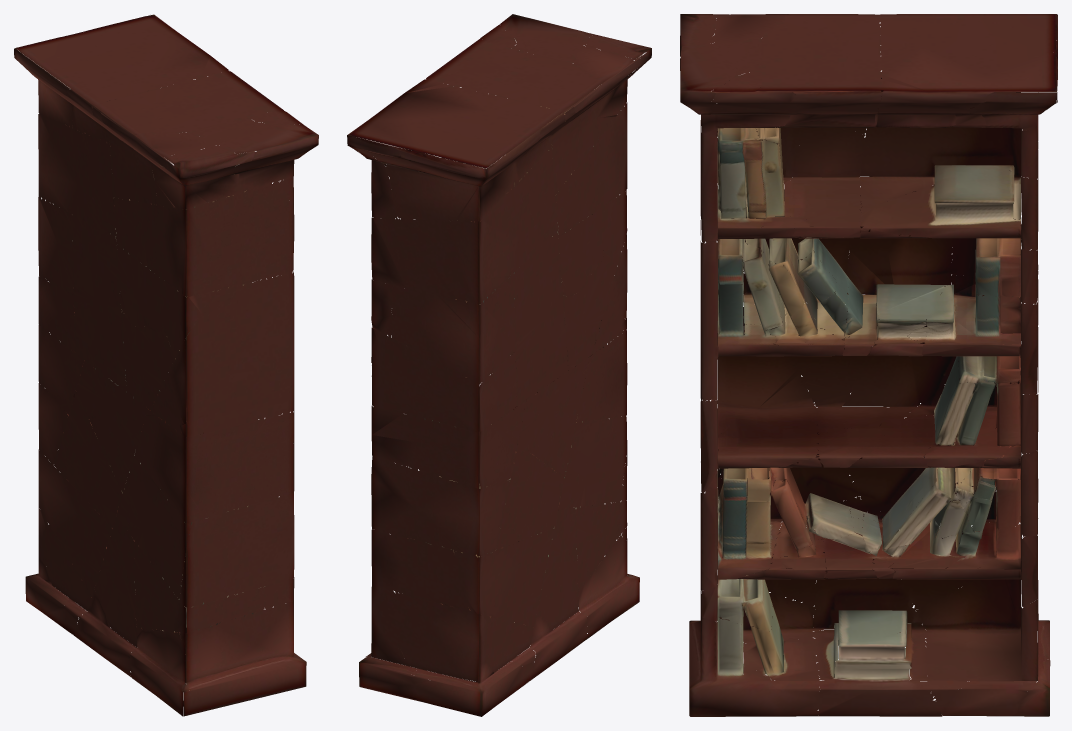
Rendered from Furn_Bookshelf_Colonial.glb.
The picture shows the model from 3 angles, left to right: view 1: azimuth 30°, elevation 25°; view 2: azimuth 150°, elevation 25°; view 3: azimuth 270°, elevation 25°; orthographic projection. The views are drawn at different scales.
Parts seen in each view (by area): view 1: tripo_node_e023cdd6-a084-4295-804f-3dfbc0f482e4; view 2: tripo_node_e023cdd6-a084-4295-804f-3dfbc0f482e4; view 3: tripo_node_e023cdd6-a084-4295-804f-3dfbc0f482e4.
Boxes of the visible parts, x1,y1,x2,y2 form: tripo_node_e023cdd6-a084-4295-804f-3dfbc0f482e4: (14,14,318,716); tripo_node_e023cdd6-a084-4295-804f-3dfbc0f482e4: (347,14,651,716); tripo_node_e023cdd6-a084-4295-804f-3dfbc0f482e4: (680,14,1057,716).
Bounding box in the file's own units: 0.2648 × 1 × 0.5432.
Materials: 1 (1 with a texture image).
